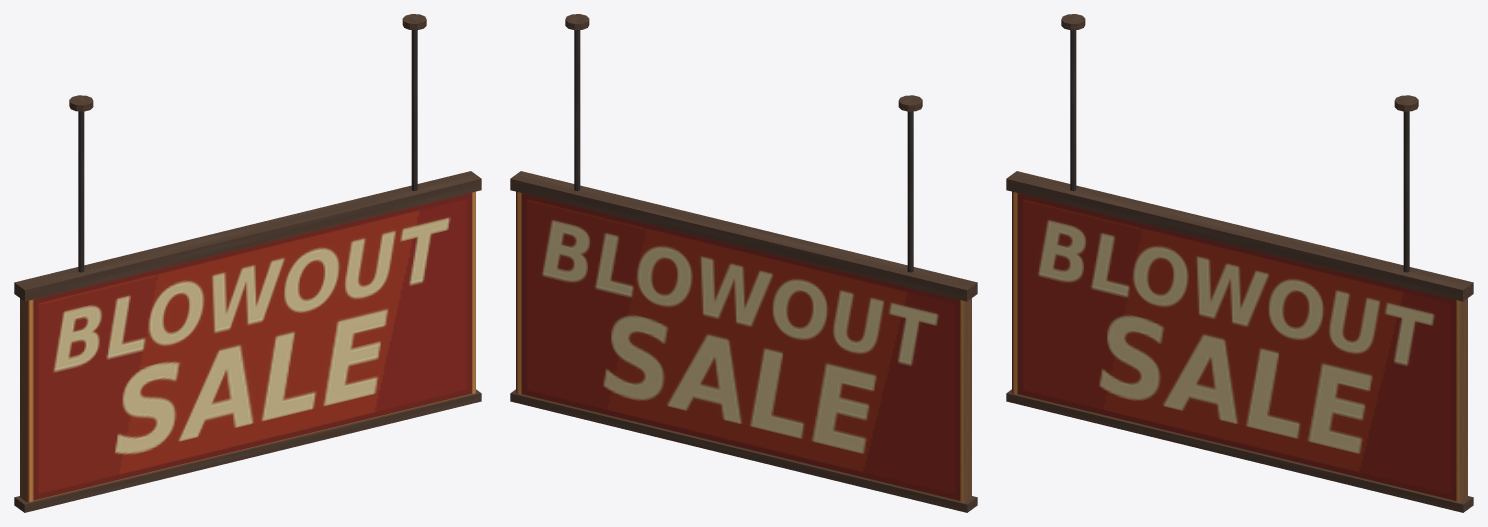
File: sale_sign_blowout.glb
The picture shows the model from 3 angles, left to right: view 1: azimuth 30°, elevation 25°; view 2: azimuth 150°, elevation 25°; view 3: azimuth 330°, elevation 25°; orthographic projection.
Visible parts, largest first — view 1: Suspended Sale Sign; view 2: Suspended Sale Sign; view 3: Suspended Sale Sign.
Boxes of the visible parts, x1,y1,x2,y2 form: Suspended Sale Sign: (14, 14, 481, 512); Suspended Sale Sign: (510, 14, 977, 512); Suspended Sale Sign: (1006, 14, 1473, 512).
Size of the model in its own units: 1.21 by 1 by 0.0533.
1 material, 1 textured.
